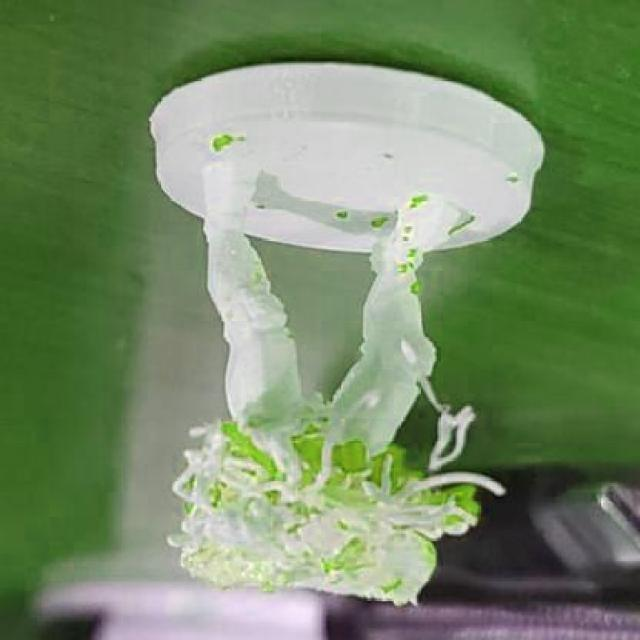spaghetti: (166, 404, 505, 608)
